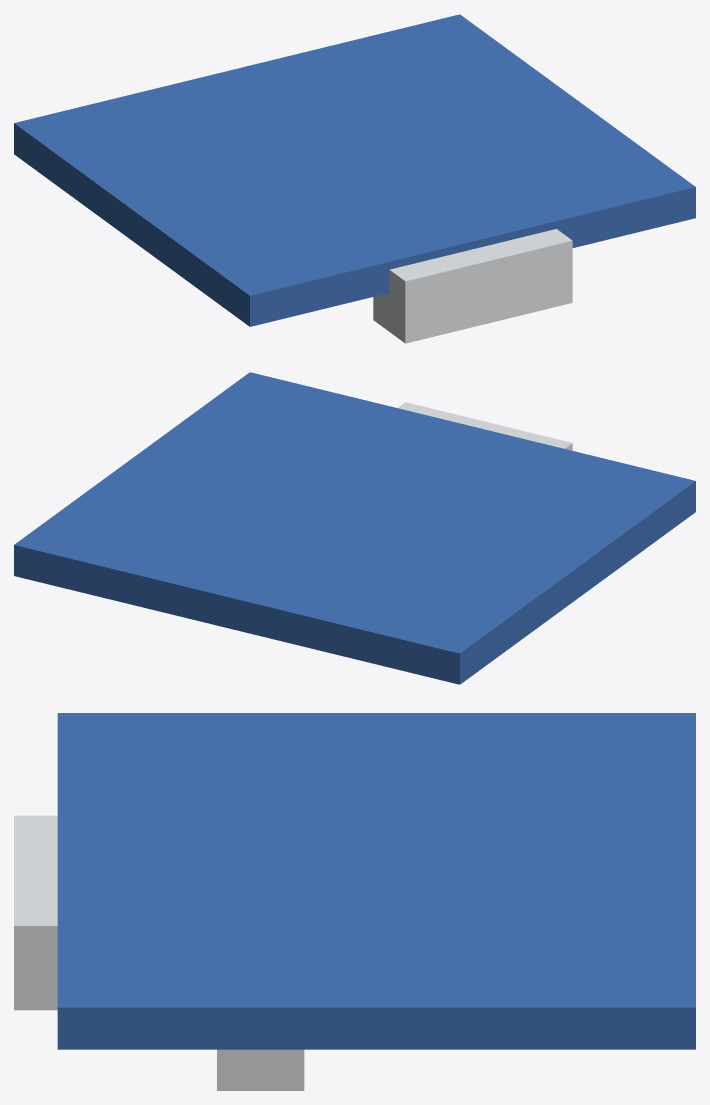
File: bms_p.glb
3 views of the same model, one above another, from view 1: azimuth 30°, elevation 25°; view 2: azimuth 150°, elevation 25°; view 3: azimuth 270°, elevation 25° (orthographic). The views are drawn at different scales.
Parts seen in each view (by area): view 1: BMS; view 2: BMS; view 3: BMS.
Boxes of the visible parts, x1,y1,x2,y2 form: BMS: [14, 14, 695, 343]; BMS: [14, 372, 695, 684]; BMS: [14, 713, 695, 1090].
Bounding box in the file's own units: 24 × 4.8 × 23.5.
